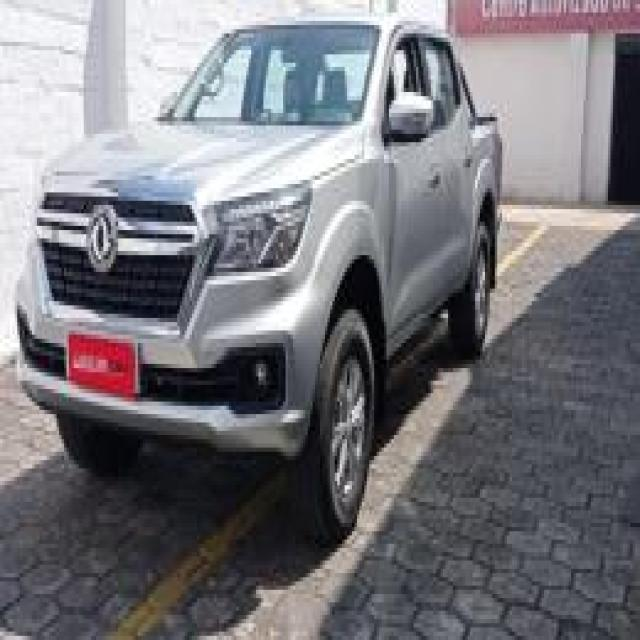CMT: (24, 19, 505, 552)
